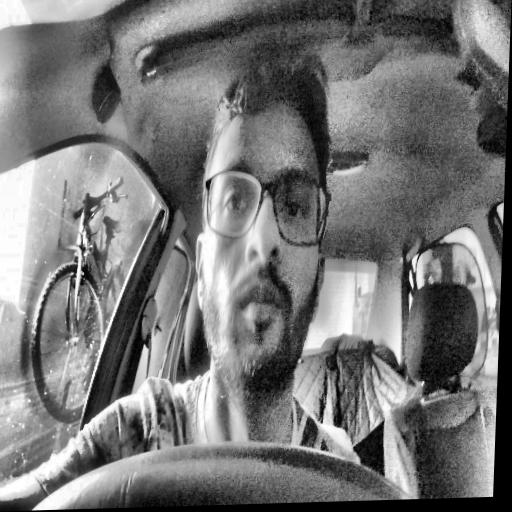awake: (186, 45, 337, 401)
